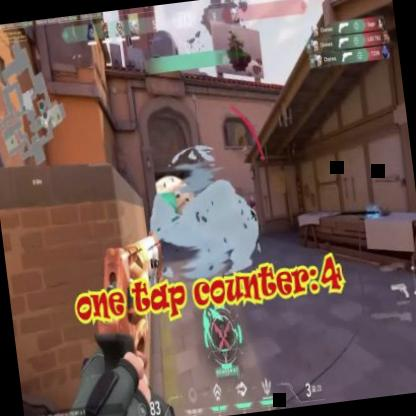enemy: (246, 193, 260, 234)
enemy_head: (249, 194, 253, 203)
